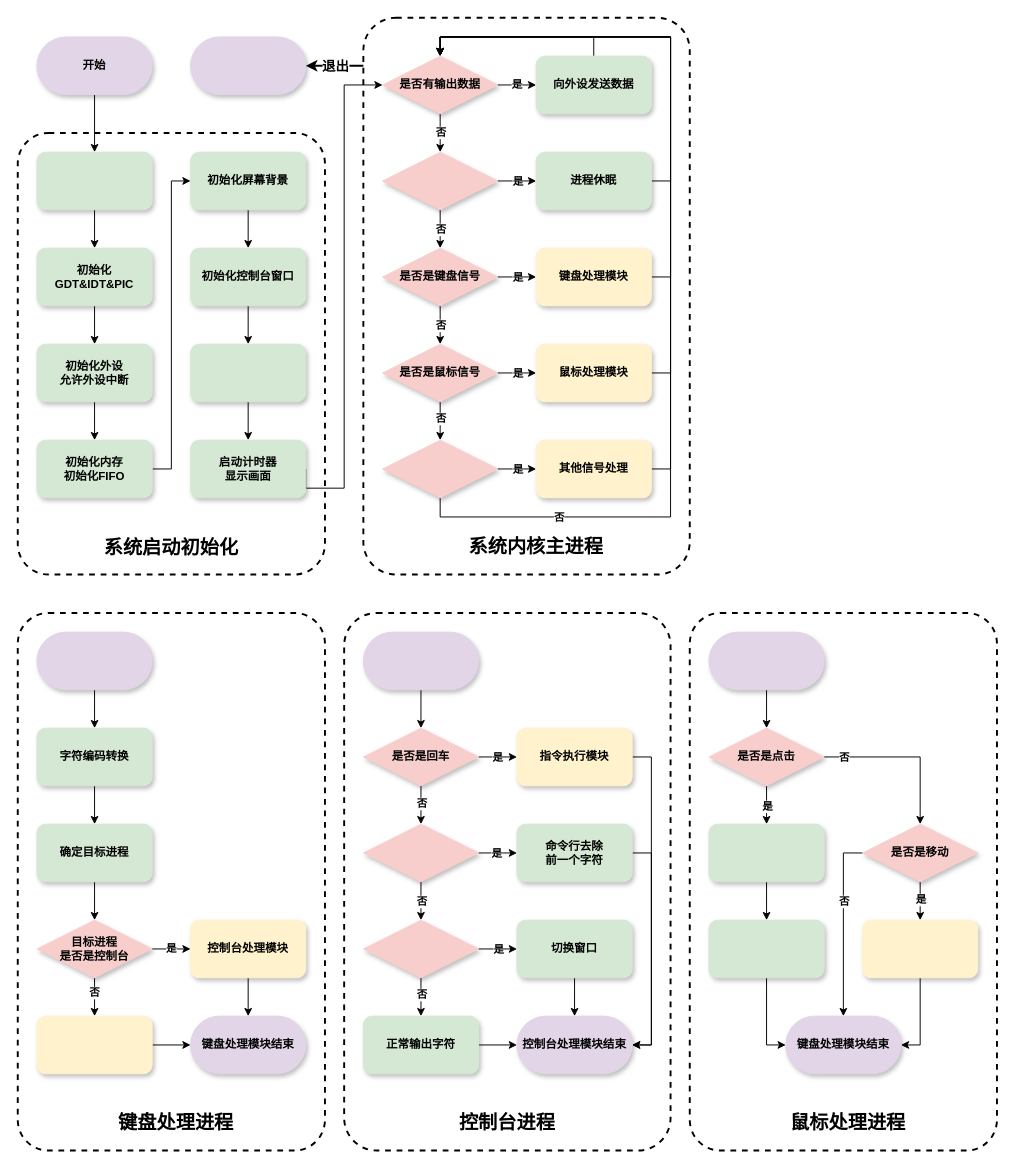
This 1014x1167 diagram has some shape labels left out. The shapes that lost their labels are listed below. From the top down, each one's centre as x and y in pixels, then its label:
the point at 249,66: 结束
the point at 95,181: 加载字符集
the point at 441,181: 是否收到信号
the point at 249,373: 初始化鼠标
the point at 441,469: 是否是合法信号
the point at 95,661: 键盘处理模块开始
the point at 421,661: 控制台处理模块开始
the point at 767,661: 鼠标处理模块开始
the point at 421,853: 是否是退格
the point at 767,853: 计算移动位置
the point at 421,949: 是否是Tab键
the point at 767,949: 刷新鼠标
the point at 921,949: 处理点击
the point at 95,1045: 其他模块
